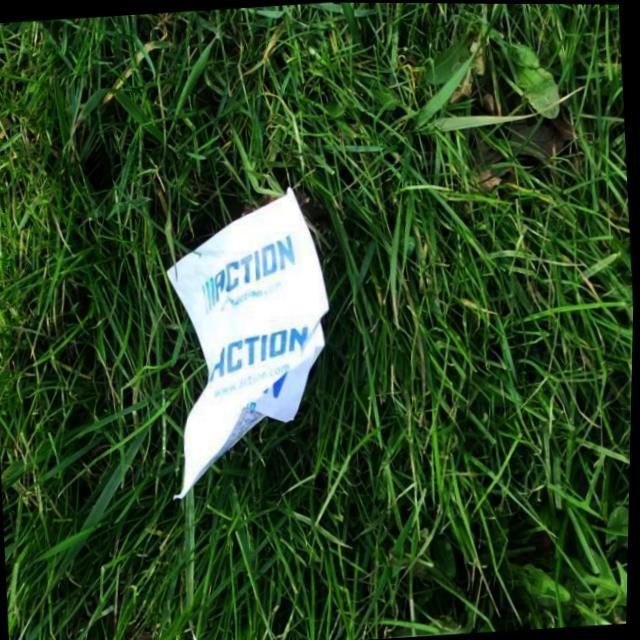Paper: (150, 172, 357, 515)
